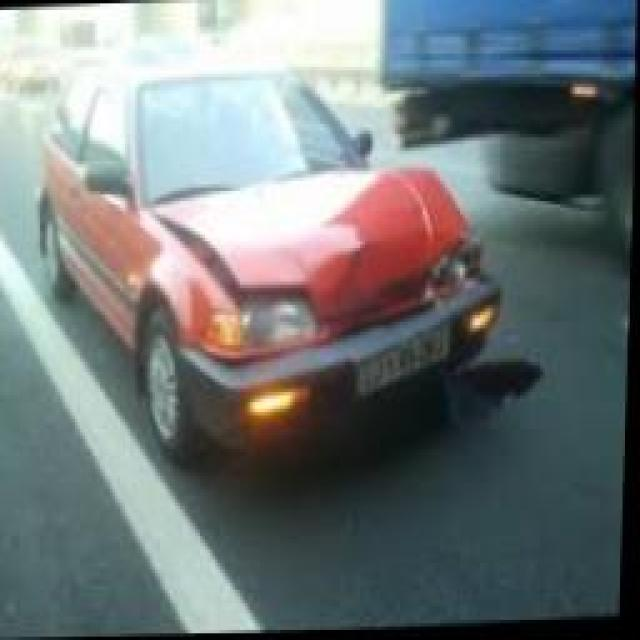Bonnet: (145, 156, 469, 324)
Bumper: (180, 281, 557, 450)
Light: (422, 224, 486, 299)
